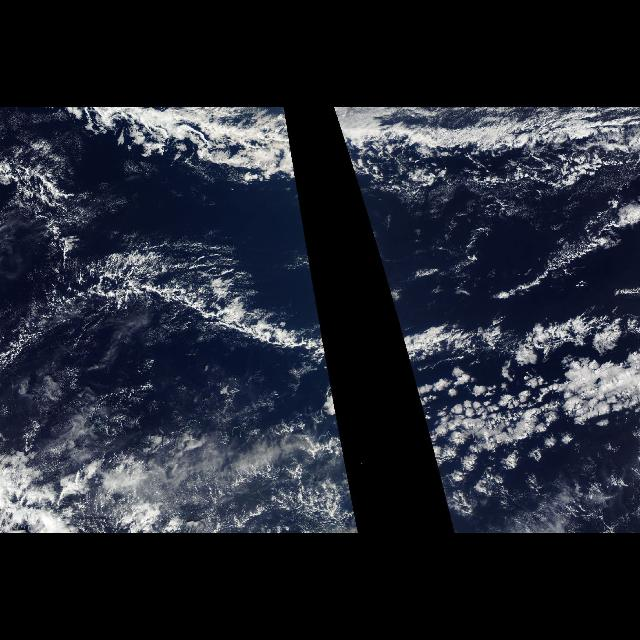Fish: (2, 154, 334, 402), (366, 212, 640, 370)
Flower: (408, 362, 640, 514), (306, 362, 358, 514)
